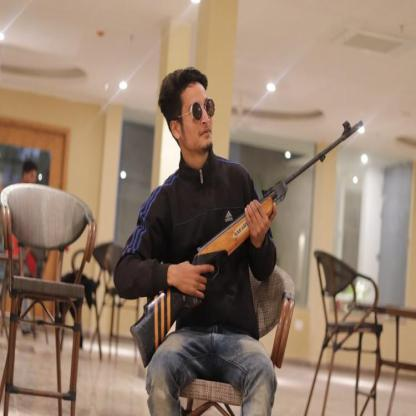rifle: (128, 118, 365, 372)
